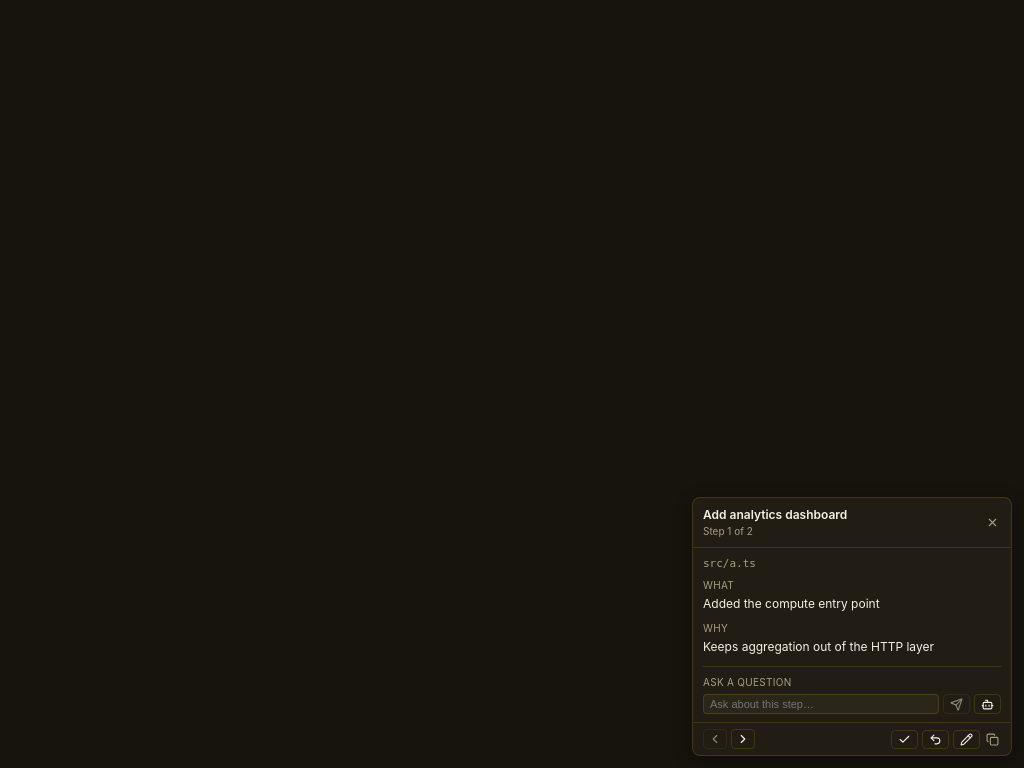
TourCard › navigates forward/back, persisting the step via SetCodeTourStep, and disables nav at the ends
The width and height of the screenshot is (1024, 768).
Expected: the text "Step 1 of 2" is shown, [703, 524, 753, 536]
Expected: the button named "previous step" is disabled, [703, 729, 727, 749]
Click the button named "next step": [743, 739] box [731, 729, 755, 749]
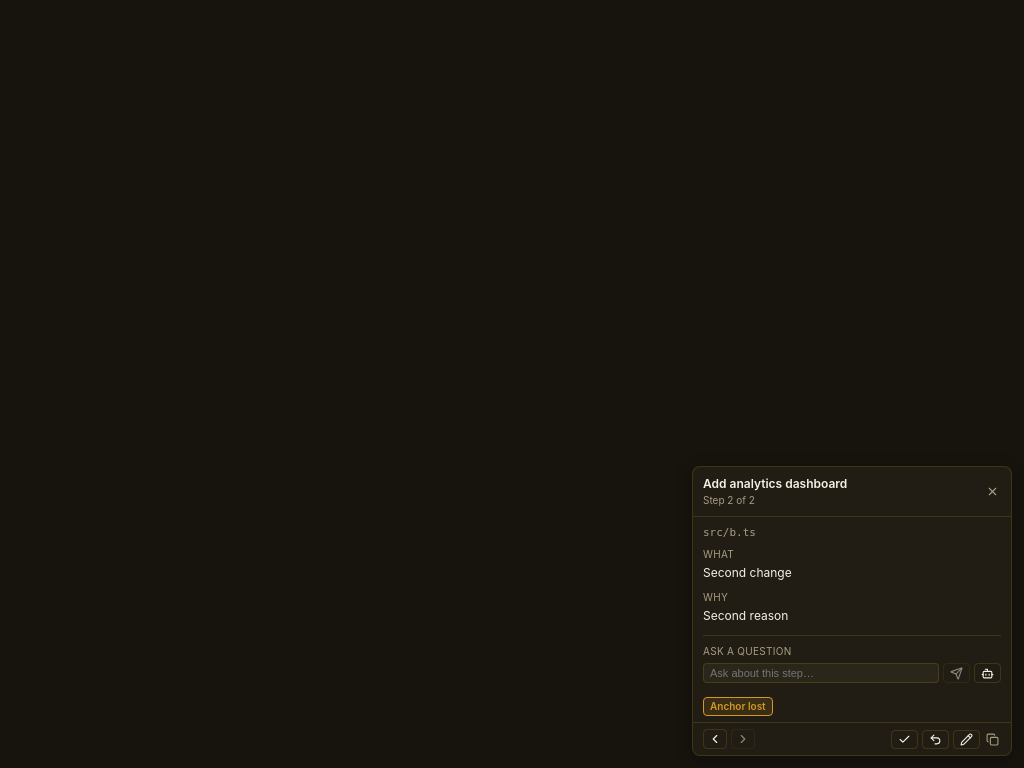
Expected: the text "Step 2 of 2" is shown, [703, 494, 755, 506]
Expected: the button named "next step" is disabled, [731, 729, 755, 749]
Click the button named "previous step": [715, 739] box [703, 729, 727, 749]
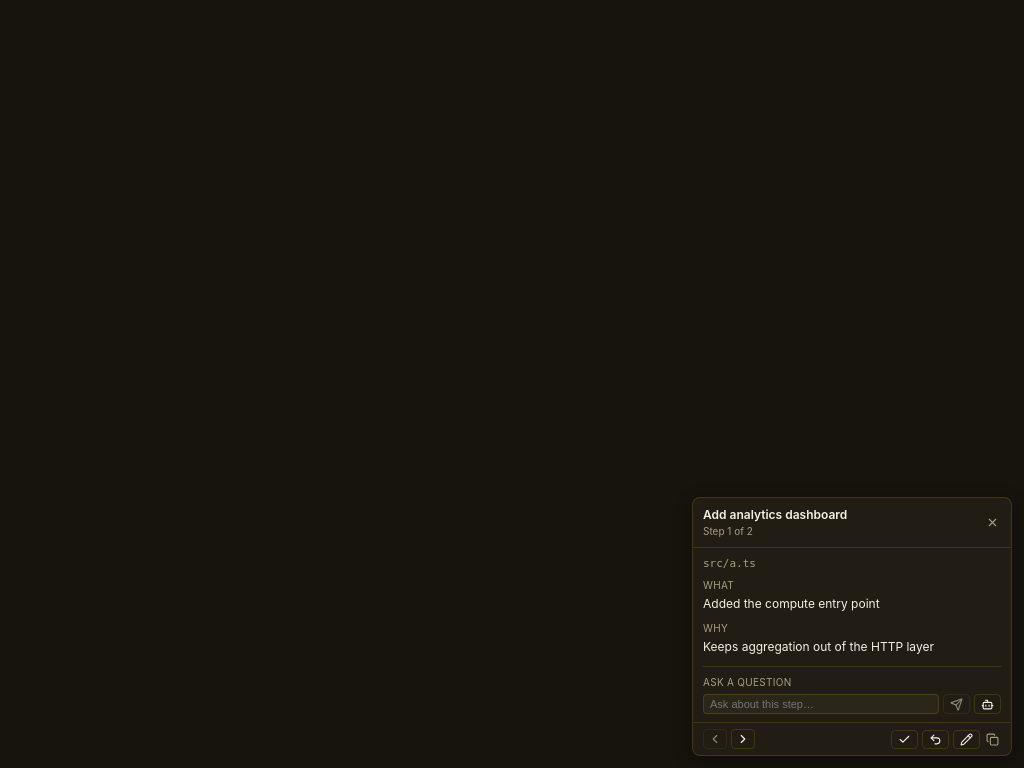
Expected: the text "Step 1 of 2" is shown, [703, 524, 753, 536]
